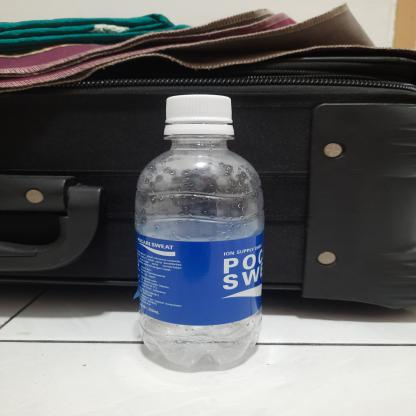plastic: (130, 87, 269, 374)
